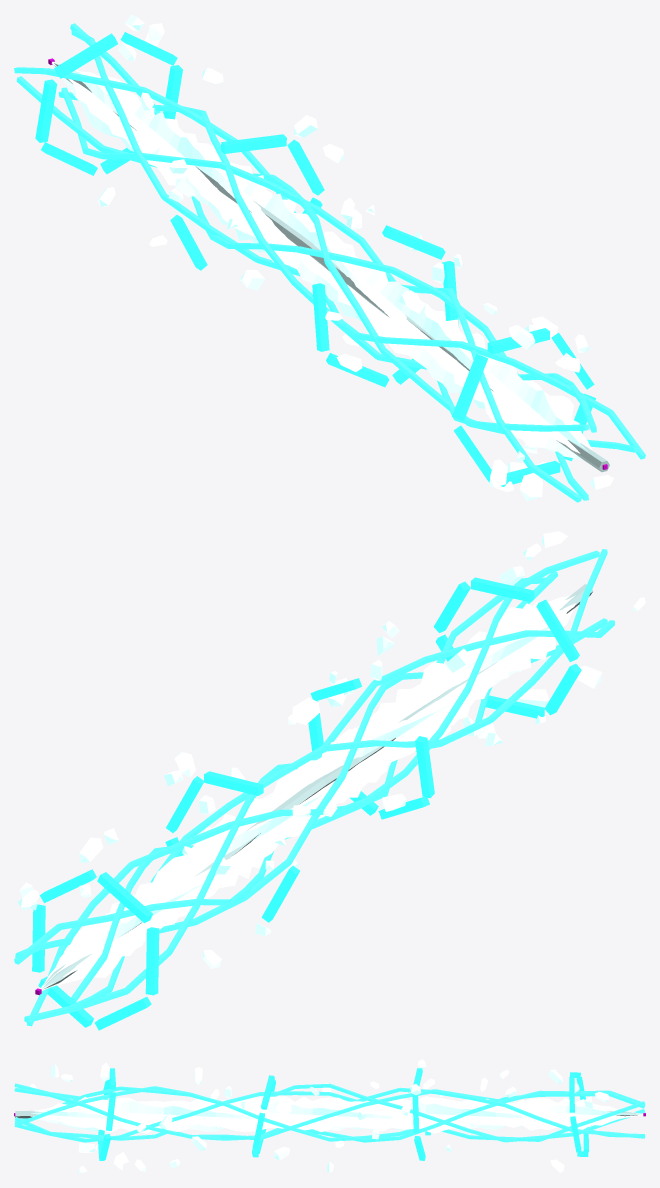
File: RiftBeam.fbx
The picture shows the model from 3 angles, top to bottom: view 1: azimuth 30°, elevation 25°; view 2: azimuth 150°, elevation 25°; view 3: azimuth 270°, elevation 25°; orthographic projection. The views are drawn at different scales.
Parts seen in each view (by area): view 1: Tear, Gates, EdgeMagenta, EdgeCyan, Fragments, Core.004; view 2: Tear, Gates, EdgeCyan, EdgeMagenta, Fragments, Core.004; view 3: Tear, EdgeCyan, EdgeMagenta, Fragments, Gates, Core.004.
Part boxes in pixels (x1=…): Tear: x1=52, y1=61, x2=592, y2=459; Gates: x1=35, y1=32, x2=595, y2=486; EdgeMagenta: x1=14, y1=23, x2=645, y2=500; EdgeCyan: x1=16, y1=30, x2=639, y2=502; Fragments: x1=97, y1=14, x2=613, y2=501; Core.004: x1=54, y1=63, x2=609, y2=472; Tear: x1=40, y1=595, x2=575, y2=990; Gates: x1=32, y1=577, x2=581, y2=1030; EdgeCyan: x1=14, y1=550, x2=614, y2=1026; EdgeMagenta: x1=15, y1=549, x2=607, y2=1022; Fragments: x1=17, y1=531, x2=645, y2=987; Core.004: x1=42, y1=584, x2=593, y2=989; Tear: x1=30, y1=1096, x2=643, y2=1133; EdgeCyan: x1=14, y1=1083, x2=645, y2=1142; EdgeMagenta: x1=14, y1=1083, x2=645, y2=1142; Fragments: x1=30, y1=1059, x2=609, y2=1173; Gates: x1=98, y1=1068, x2=588, y2=1160; Core.004: x1=15, y1=1110, x2=640, y2=1118.
Bounding box in the file's own units: 4.67 × 4.22 × 24.1.
